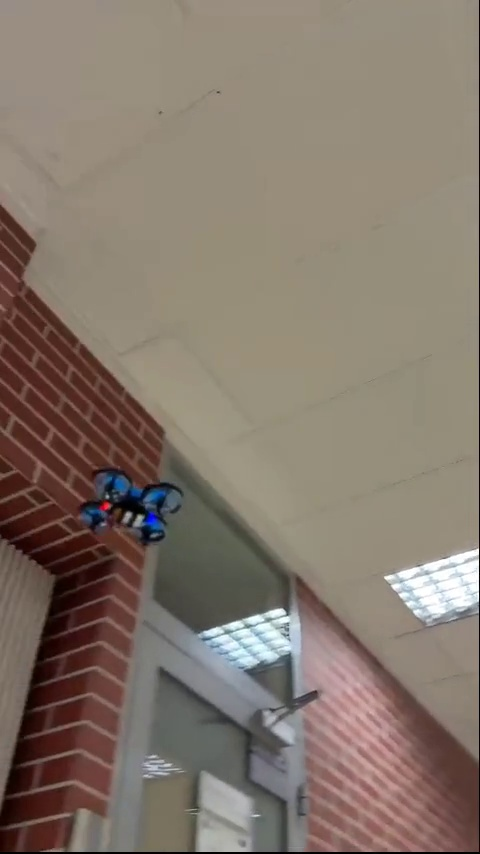drone: (89, 466, 180, 544)
